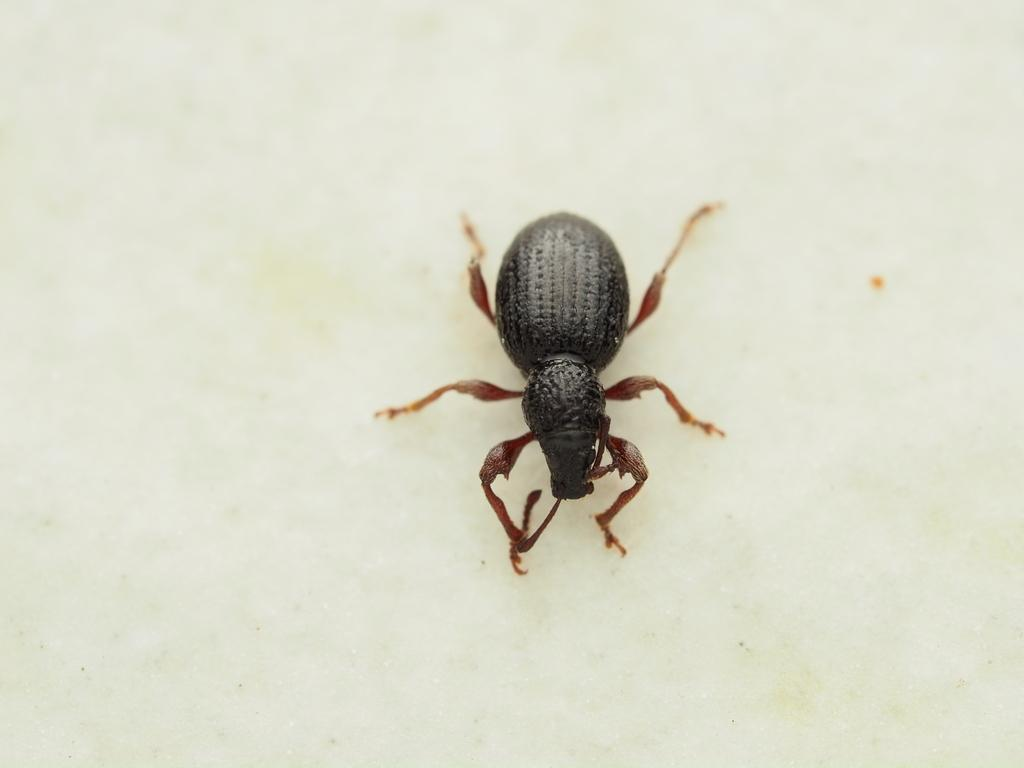weevils: (337, 159, 796, 622)
